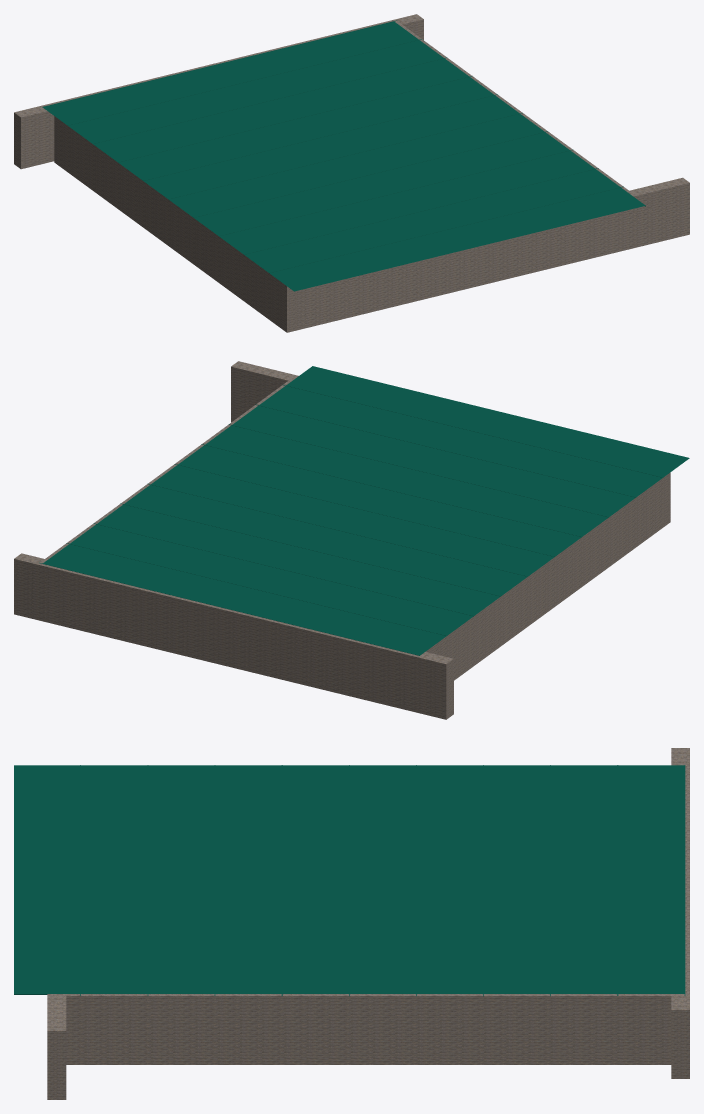
File: chesstable.dae
3 renders of one model, top to bottom at view 1: azimuth 30°, elevation 25°; view 2: azimuth 150°, elevation 25°; view 3: azimuth 270°, elevation 25°, orthographic. The views are drawn at different scales.
Parts seen in each view (by area): view 1: ID539, wall (×4); view 2: ID539, wall (×4); view 3: ID539, wall (×3).
Part boxes in pixels (<box>): ID539: <box>42,20,645,291</box>; wall (×4): <box>14,14,689,332</box>; ID539: <box>39,366,689,655</box>; wall (×4): <box>14,361,670,719</box>; ID539: <box>14,765,685,996</box>; wall (×3): <box>47,748,689,1099</box>.
Bounding box in the file's own units: 6921 × 6993 × 792.
14 materials, 9 textured.
